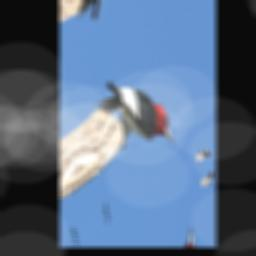Woodpecker: (92, 44, 174, 189)
